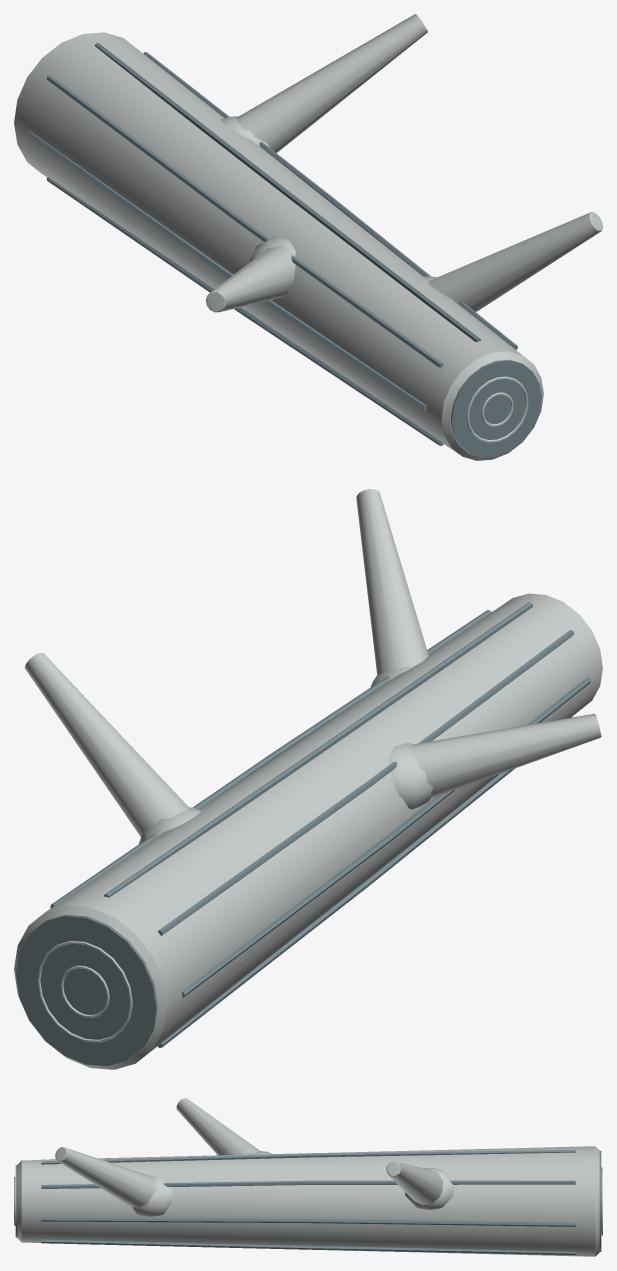
File: fallen-tree.glb
3 views of the same model, one above another, from view 1: azimuth 30°, elevation 25°; view 2: azimuth 150°, elevation 25°; view 3: azimuth 270°, elevation 25° (orthographic). The views are drawn at different scales.
Parts seen in each view (by area): view 1: fallen_trunk, broken_branch, sawn_end.001, broken_branch.002, broken_branch.001, bark_ridge.002, bark_ridge.003, bark_ridge.004, bark_ridge.005, bark_ridge.001, growth_ring.003; view 2: fallen_trunk, sawn_end, broken_branch, broken_branch.001, broken_branch.002, bark_ridge.002, bark_ridge.003, bark_ridge.004, bark_ridge.005, bark_ridge.001, branch_collar.001, growth_ring.001; view 3: fallen_trunk, broken_branch.002, bark_ridge, bark_ridge.007, bark_ridge.001, bark_ridge.002, broken_branch.001, broken_branch, branch_collar.002, branch_collar, sawn_end.
Boxes of the visible parts, <box> form: fallen_trunk: <box>14,32,543,460</box>; broken_branch: <box>236,14,427,152</box>; sawn_end.001: <box>451,360,541,457</box>; broken_branch.002: <box>428,211,602,311</box>; broken_branch.001: <box>206,245,295,312</box>; bark_ridge.002: <box>95,43,480,342</box>; bark_ridge.003: <box>46,75,443,368</box>; bark_ridge.004: <box>26,130,426,410</box>; bark_ridge.005: <box>46,177,443,445</box>; bark_ridge.001: <box>143,52,517,349</box>; growth_ring.003: <box>466,376,528,442</box>; fallen_trunk: <box>14,593,602,1069</box>; sawn_end: <box>16,915,157,1066</box>; broken_branch: <box>25,653,190,836</box>; broken_branch.001: <box>407,713,601,798</box>; broken_branch.002: <box>356,489,428,674</box>; bark_ridge.002: <box>103,602,532,897</box>; bark_ridge.003: <box>158,630,574,935</box>; bark_ridge.004: <box>182,677,591,997</box>; bark_ridge.005: <box>157,716,572,1047</box>; bark_ridge.001: <box>50,610,491,907</box>; branch_collar.001: <box>388,743,433,809</box>; growth_ring.001: <box>37,940,132,1042</box>; fallen_trunk: <box>17,1146,599,1256</box>; broken_branch.002: <box>55,1147,156,1207</box>; bark_ridge: <box>41,1217,575,1226</box>; bark_ridge.007: <box>41,1239,575,1254</box>; bark_ridge.001: <box>41,1180,575,1188</box>; bark_ridge.002: <box>41,1150,575,1164</box>; broken_branch.001: <box>176,1098,259,1155</box>; broken_branch: <box>386,1161,442,1205</box>; branch_collar.002: <box>132,1176,172,1216</box>; branch_collar: <box>405,1168,453,1209</box>; sawn_end: <box>599,1151,601,1251</box>.
Size of the model in its own units: 1.22 by 0.7108 by 2.43.
